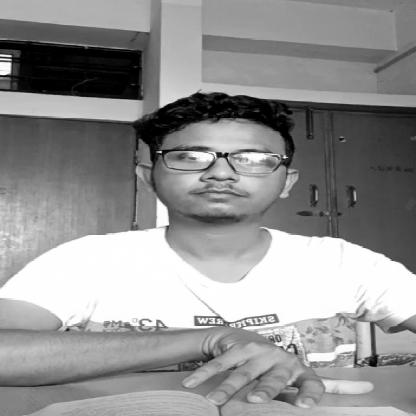Normal: (124, 98, 297, 238)
